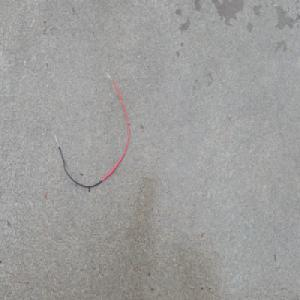Wire: (53, 72, 130, 191)
